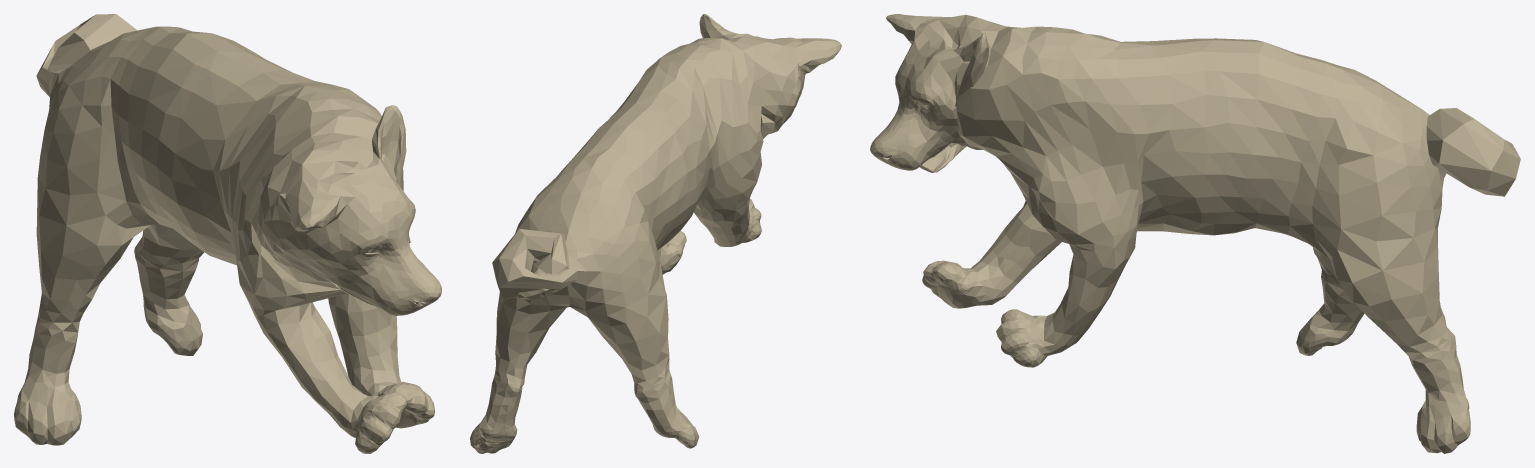
The picture shows the model from 3 angles, left to right: view 1: azimuth 30°, elevation 25°; view 2: azimuth 150°, elevation 25°; view 3: azimuth 270°, elevation 25°; orthographic projection. The views are drawn at different scales.
Parts seen in each view (by area): view 1: world; view 2: world; view 3: world.
Part boxes in pixels (x1,y1,x2,y2): world: (14,14,441,453); world: (470,14,841,453); world: (870,14,1520,453).
Bounding box in the file's own units: 0.4718 × 0.8128 × 1.21.
